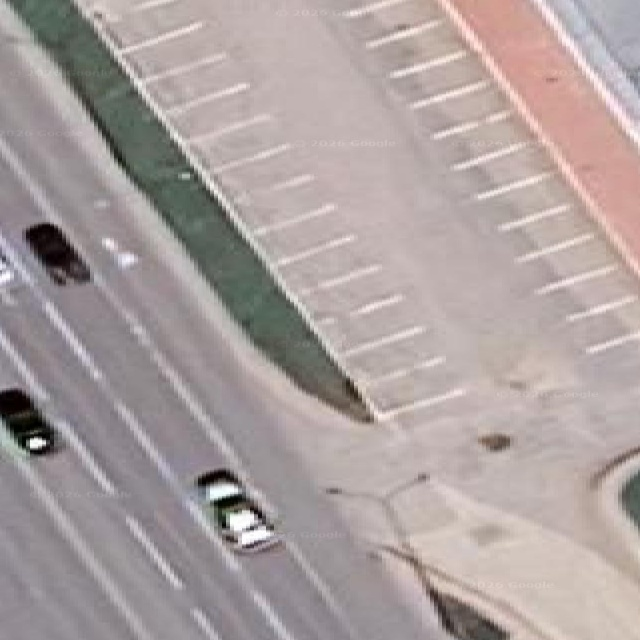car: (196, 470, 279, 550), (24, 223, 88, 283), (0, 388, 54, 452), (0, 251, 13, 286)
